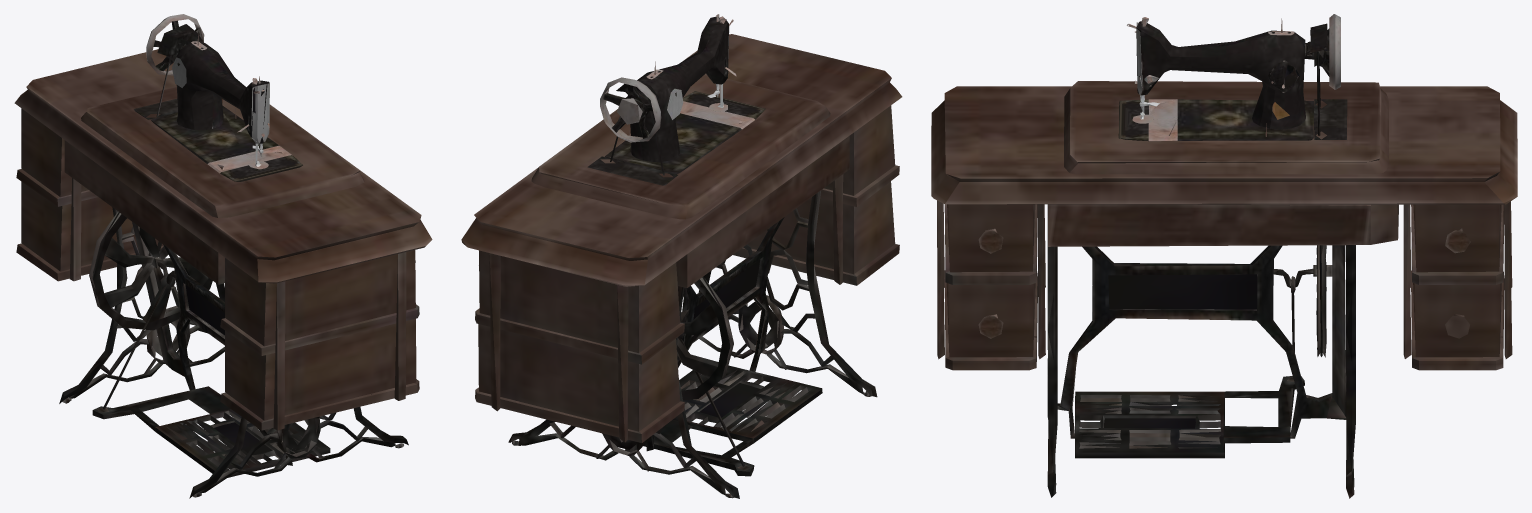
File: sewing-machine-treadle.lod1.glb
The picture shows the model from 3 angles, left to right: view 1: azimuth 30°, elevation 25°; view 2: azimuth 150°, elevation 25°; view 3: azimuth 270°, elevation 25°; orthographic projection. The views are drawn at different scales.
Parts seen in each view (by area): view 1: sewing-machine-treadle; view 2: sewing-machine-treadle; view 3: sewing-machine-treadle.
Boxes of the visible parts, bbox=[...] form: sewing-machine-treadle: bbox=[14, 14, 432, 498]; sewing-machine-treadle: bbox=[461, 14, 902, 498]; sewing-machine-treadle: bbox=[931, 14, 1517, 498].
Size of the model in its own units: 0.4964 by 0.7987 by 1.
2 materials, 2 textured.
